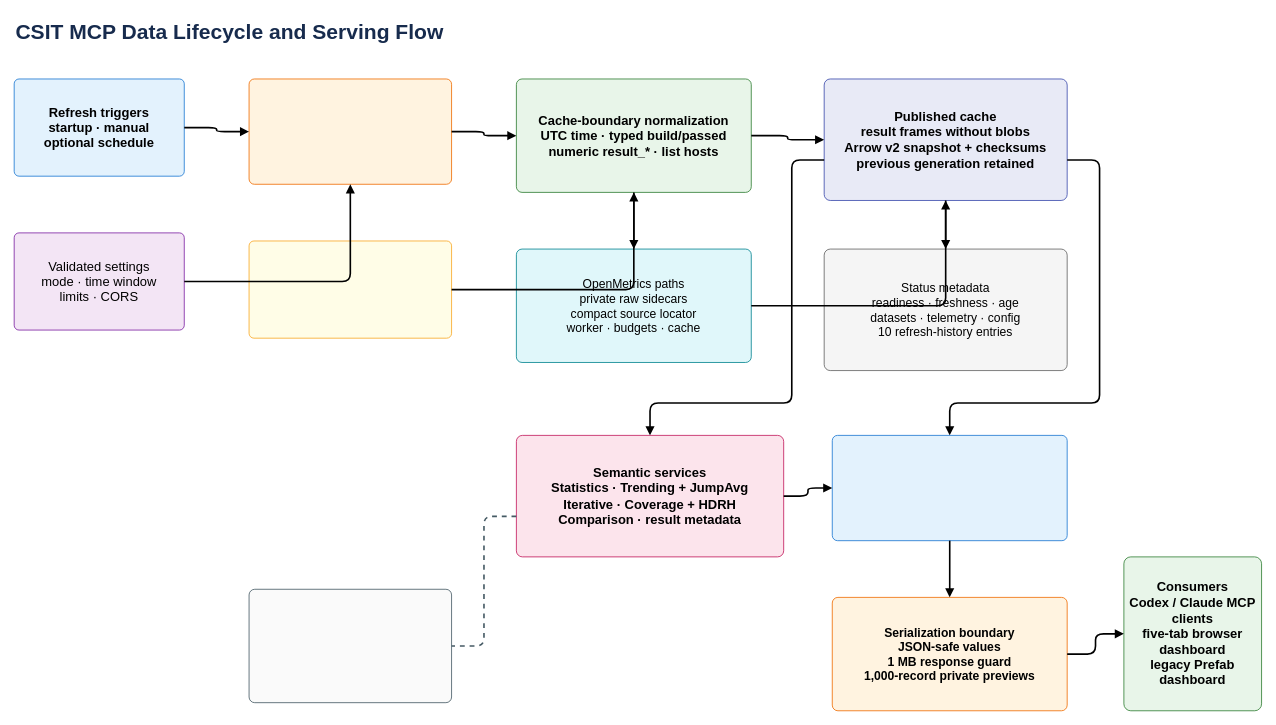
The diagram is 1276 pixels wide and 725 high, and some of its shapes have lost their labels. The shapes that lost their labels are listed below. From the top down, each one's centre as x and y in pixels, then its label:
At point (350, 131): "Reader required then optional S3 retries or fixture JSON".
At point (350, 289): "Source metadata data.yaml · Arrow schemas result_metadata.yaml".
At point (949, 488): "Generic services discovery · query · analysis filter · aggregate · paginate".
At point (350, 645): "Structured logs refresh · telemetry tool/resource completion response_too_large".
